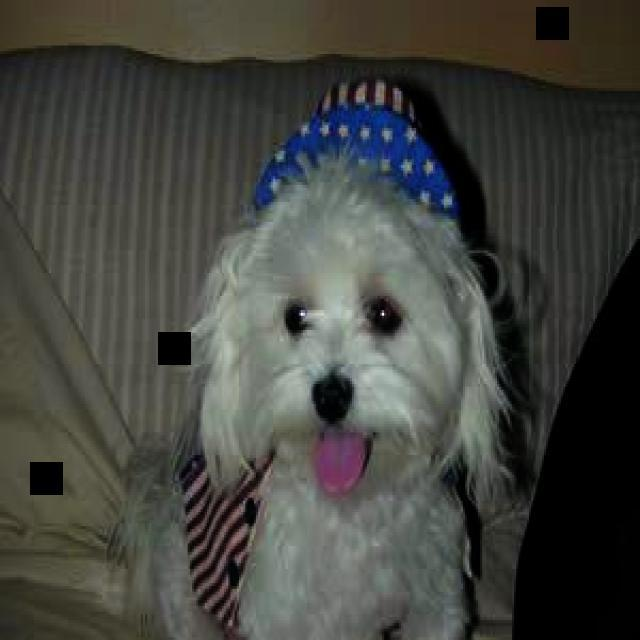adult_dog: (99, 151, 527, 635)
